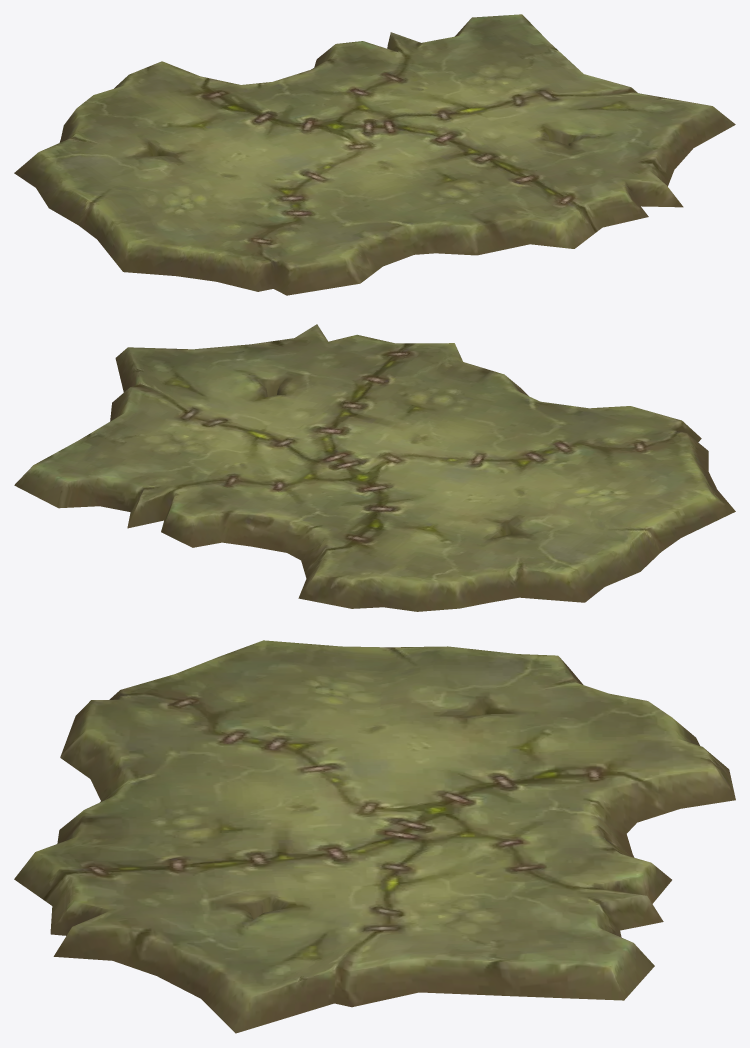
The picture shows the model from 3 angles, top to bottom: view 1: azimuth 30°, elevation 25°; view 2: azimuth 150°, elevation 25°; view 3: azimuth 270°, elevation 25°; orthographic projection. The views are drawn at different scales.
Bounding box in the file's own units: 5.82 × 0.1721 × 4.69.
1 material, 1 textured.
